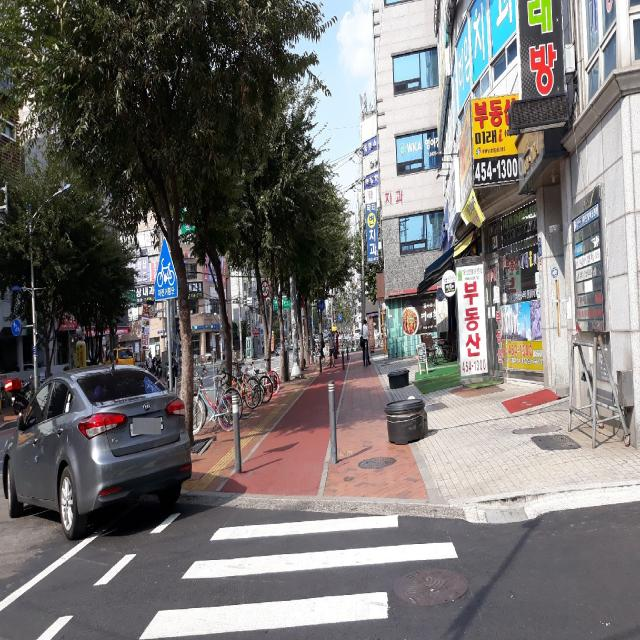횡단보도: (137, 512, 460, 640)
